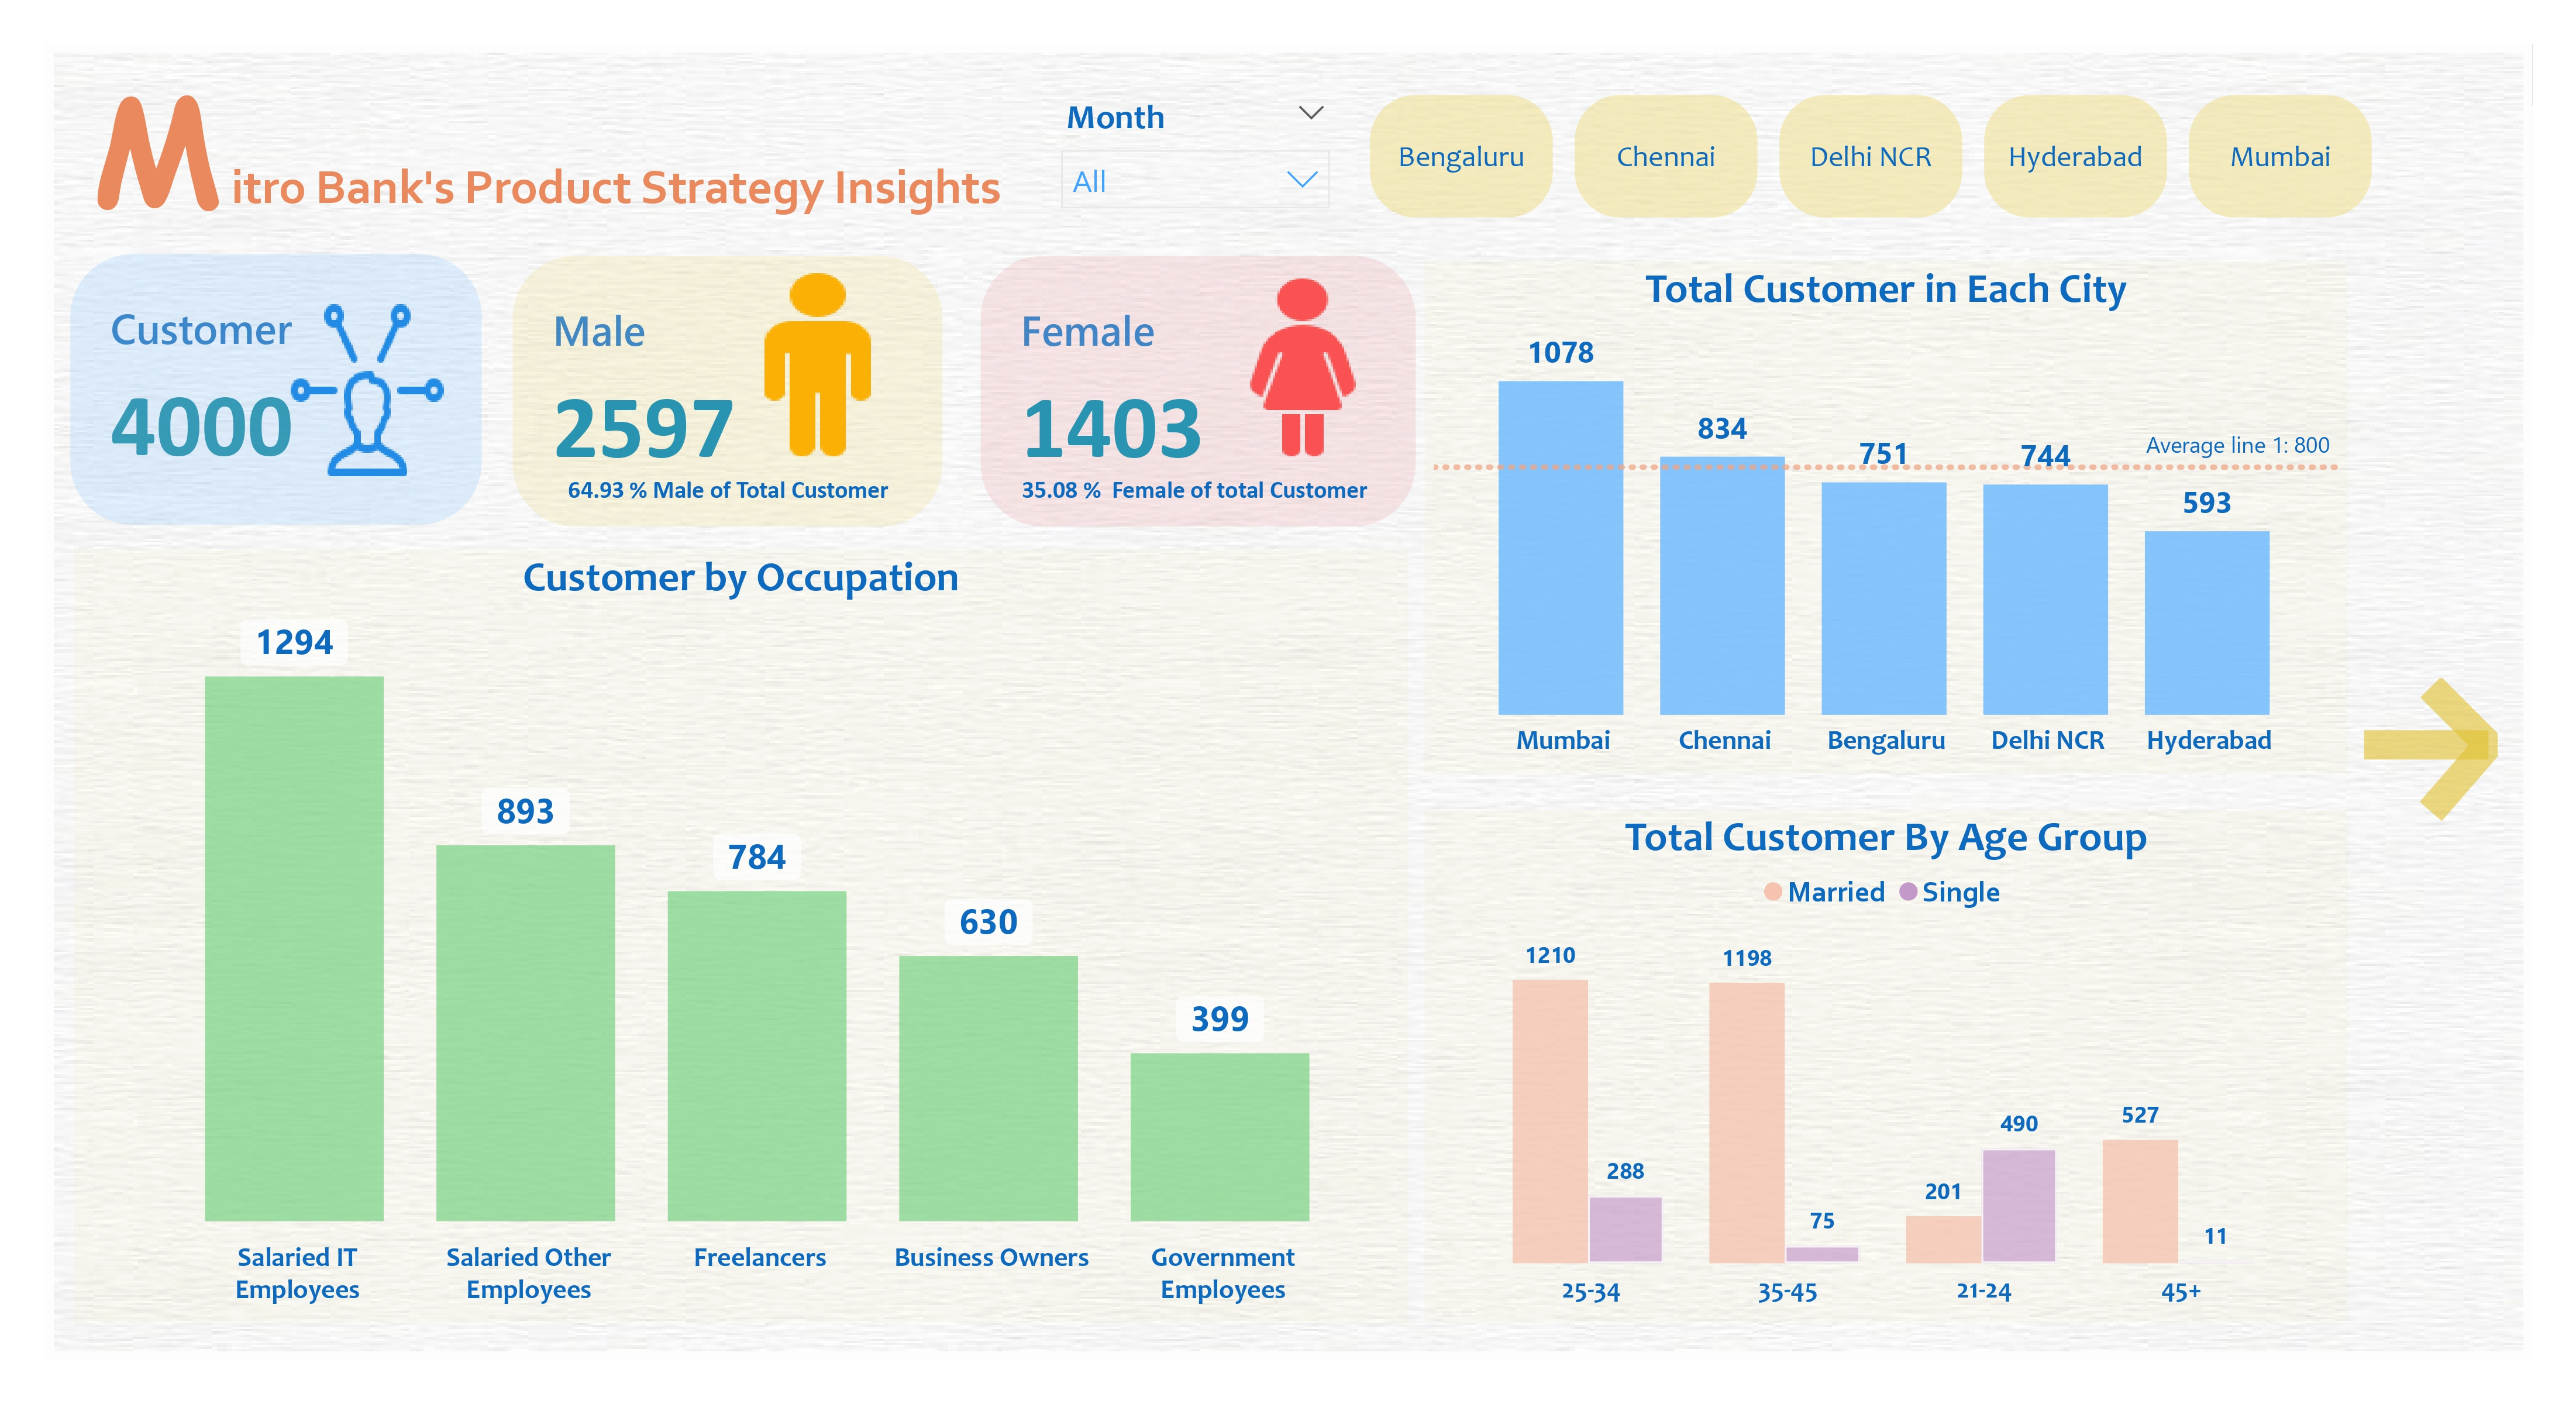

The page's visual inventory and layout, read from the dashboard file:
{"tool":"powerbi","page":{"name":"Demografic","canvas":[1361,720],"ordinal":0},"visuals":[{"type":"textbox","title":"M","box":[14.7,0,93,99],"z":0,"group":"g2"},{"type":"textbox","title":"itro Bank''s Product Strategy Insights","box":[96.7,62.1,446.1,35.6],"z":1000,"group":"g2"},{"type":"image","box":[0,0,1361.1,720],"z":8000},{"type":"cardVisual","fields":{"Data":["dim_customers.Customer"]},"box":[8.6,110,234.7,157.7],"z":9000,"group":"g1"},{"type":"cardVisual","fields":{"Data":["dim_customers.Male"]},"box":[250.6,111.2,245.7,157.7],"z":9000},{"type":"cardVisual","fields":{"Data":["dim_customers.Female"]},"box":[507.3,111.2,248.1,157.7],"z":10000},{"type":"clusteredColumnChart","title":"Total Customer in Each City","fields":{"Category":["dim_customers.city"],"Y":["dim_customers.Customer"]},"box":[755.4,118.6,504.9,279.9],"z":11000},{"type":"clusteredColumnChart","title":"Total Customer By Age Group","fields":{"Category":["dim_customers.age_group"],"Y":["dim_customers.Customer"],"Series":["dim_customers.marital status"]},"box":[755.4,419.3,504.9,279.9],"z":12000},{"type":"lineClusteredColumnComboChart","title":"Customer by Occupation","fields":{"Category":["dim_customers.occupation"],"Y":["dim_customers.Customer"]},"box":[15.9,277.5,729.8,421.7],"z":13000},{"type":"card","fields":{"Values":["dim_customers.Male %"]},"box":[266,226,216.4,39.1],"z":14000},{"type":"card","fields":{"Values":["dim_customers.Female %"]},"box":[520.7,226.1,216.4,39.1],"z":15000},{"type":"image","box":[618.5,118.6,136.9,116.1],"z":16000},{"type":"image","box":[347.2,116.1,149.1,118.6],"z":17000},{"type":"image","box":[126,130.8,100.2,117.4],"z":17006,"group":"g1"},{"type":"group","id":"g1","title":"Group 2","box":[8.6,110,234.7,157.7],"z":18000},{"type":"advancedSlicerVisual","fields":{"Values":["dim_customers.city"]},"box":[720,23.2,559.9,77],"z":19000},{"type":"slicer","fields":{"Values":["fact_spends.month"]},"box":[546.4,23.2,166.2,75.8],"z":20000},{"type":"group","id":"g2","title":"Group 3","box":[14.7,0,528.1,99],"z":21000},{"type":"actionButton","box":[1260.3,331.3,100.2,97.8],"z":22000}]}

Visuals, with their boxes on the page's 1361x720 design canvas (x1, y1, x2, y2). These are canvas units, not pixel positions in the 2576x1404 screenshot, which may show the page scaled, cropped or inside an application window:
"M" textbox: [15, 0, 108, 99]
"itro Bank''s Product Strategy Insights" textbox: [97, 62, 543, 98]
image: [0, 0, 1361, 720]
cardVisual - dim_customers.Customer: [9, 110, 243, 268]
cardVisual - dim_customers.Male: [251, 111, 496, 269]
cardVisual - dim_customers.Female: [507, 111, 755, 269]
"Total Customer in Each City" clusteredColumnChart: [755, 119, 1260, 398]
"Total Customer By Age Group" clusteredColumnChart: [755, 419, 1260, 699]
"Customer by Occupation" lineClusteredColumnComboChart: [16, 278, 746, 699]
card - dim_customers.Male %: [266, 226, 482, 265]
card - dim_customers.Female %: [521, 226, 737, 265]
image: [618, 119, 755, 235]
image: [347, 116, 496, 235]
image: [126, 131, 226, 248]
"Group 2" group: [9, 110, 243, 268]
advancedSlicerVisual - dim_customers.city: [720, 23, 1280, 100]
slicer - fact_spends.month: [546, 23, 713, 99]
"Group 3" group: [15, 0, 543, 99]
actionButton: [1260, 331, 1360, 429]
